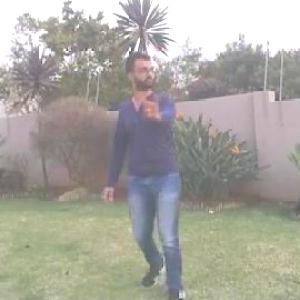takeoff-hand: (136, 84, 166, 120)
